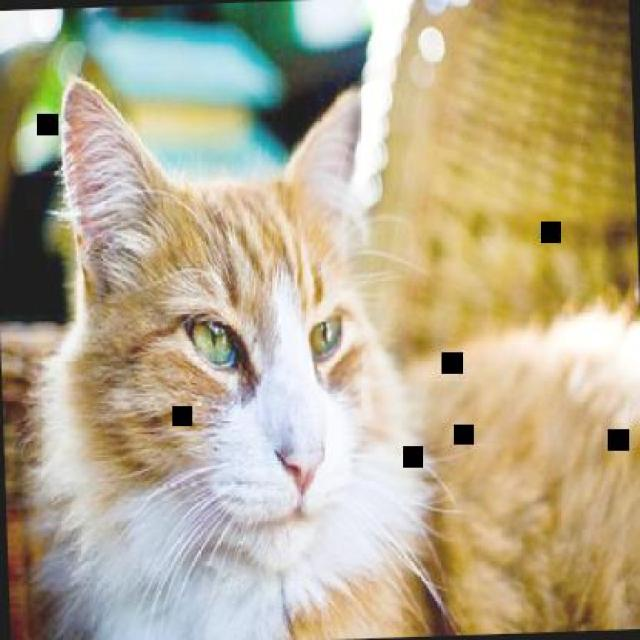cat: (19, 54, 638, 638)
